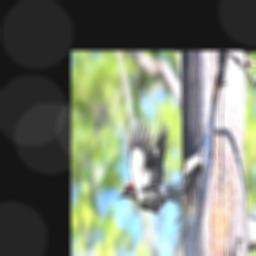Woodpecker: (116, 118, 187, 233)
